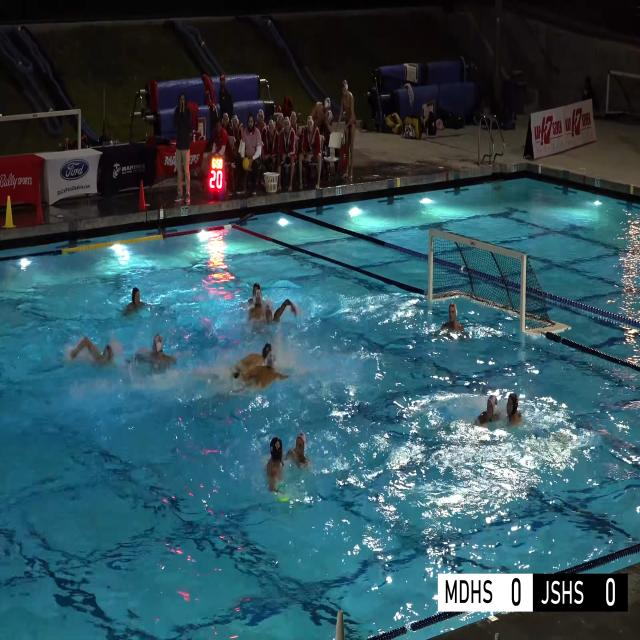ball: (242, 157, 250, 170), (278, 495, 290, 501)
